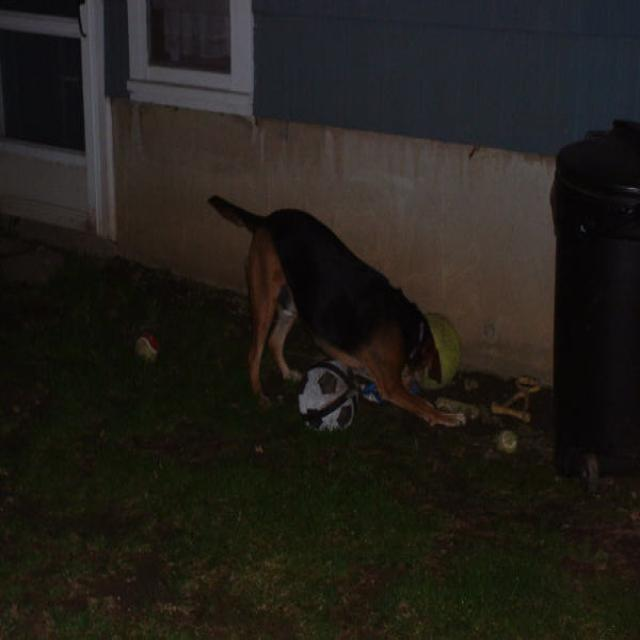Dog: (222, 138, 498, 488)
